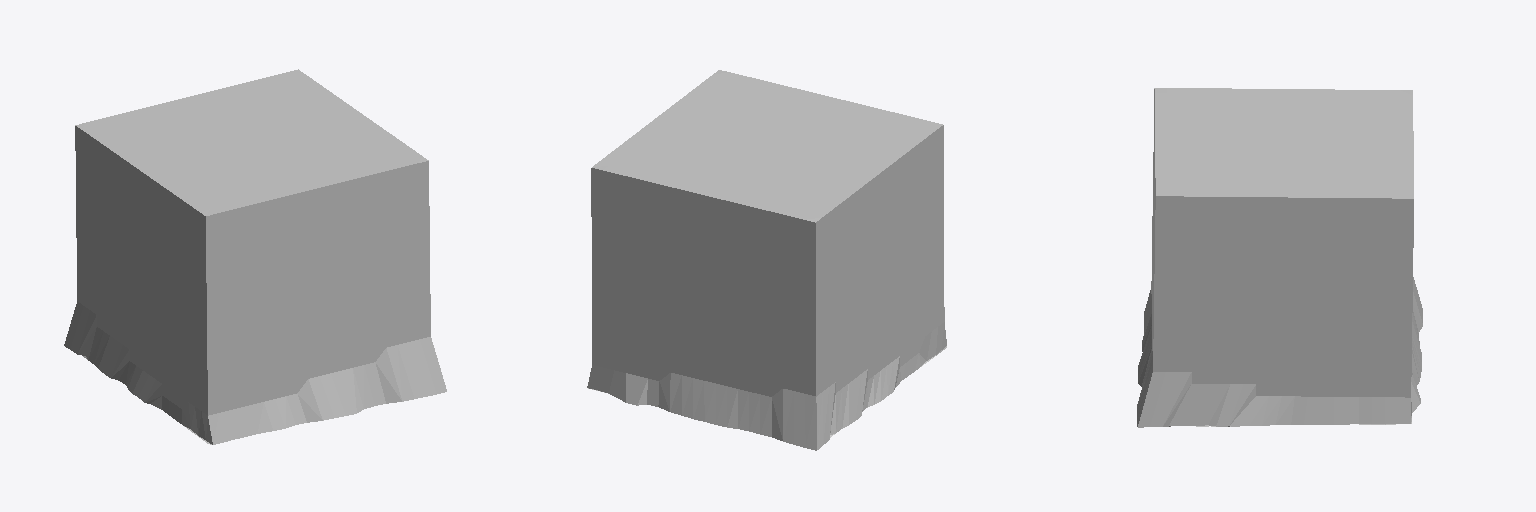
Rendered from mod0102.obj.
3 renders of one model, left to right at view 1: azimuth 30°, elevation 25°; view 2: azimuth 150°, elevation 25°; view 3: azimuth 270°, elevation 25°, orthographic.
Parts seen in each view (by area): view 1: Box001; view 2: Box001; view 3: Box001.
Part boxes in pixels (left/top/right/bottom): Box001: left=64, top=69, right=446, bottom=444; Box001: left=587, top=70, right=946, bottom=450; Box001: left=1137, top=88, right=1422, bottom=427.
Size of the model in its own units: 0.5799 by 0.5234 by 0.5979.